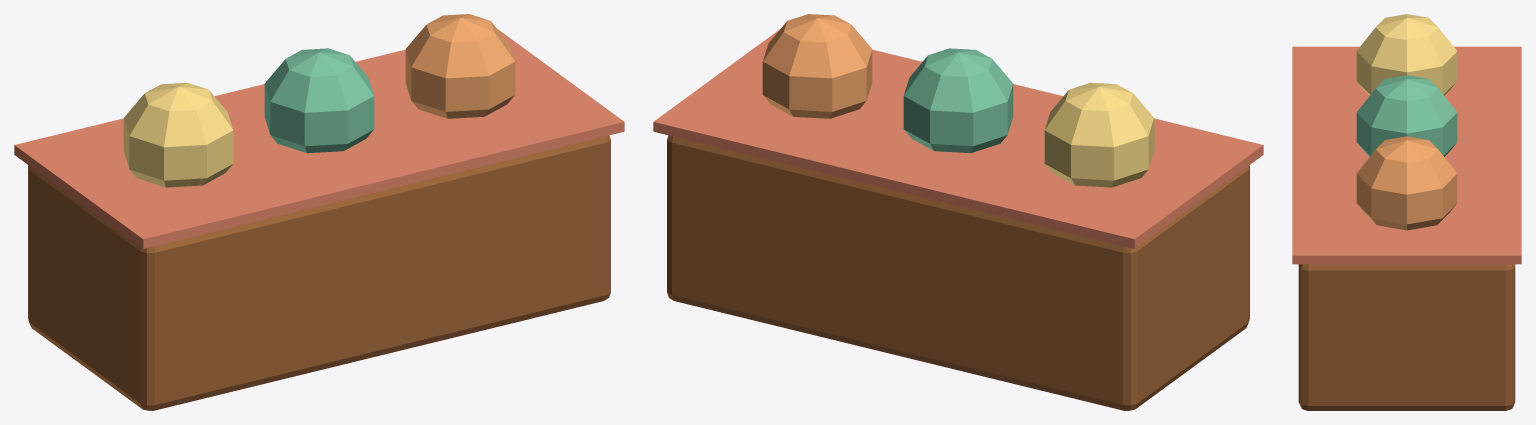
File: int_lapak.fbx
3 views of the same model, side by side, from view 1: azimuth 30°, elevation 25°; view 2: azimuth 150°, elevation 25°; view 3: azimuth 270°, elevation 25° (orthographic). The views are drawn at different scales.
Visible parts, largest first — view 1: int_lapak; view 2: int_lapak; view 3: int_lapak.
Boxes of the visible parts, left/top/right/bottom form: int_lapak: left=14, top=14, right=624, bottom=410; int_lapak: left=653, top=14, right=1263, bottom=410; int_lapak: left=1292, top=14, right=1521, bottom=410.
Bounding box in the file's own units: 205 × 107 × 95.
1 material, 1 textured.
